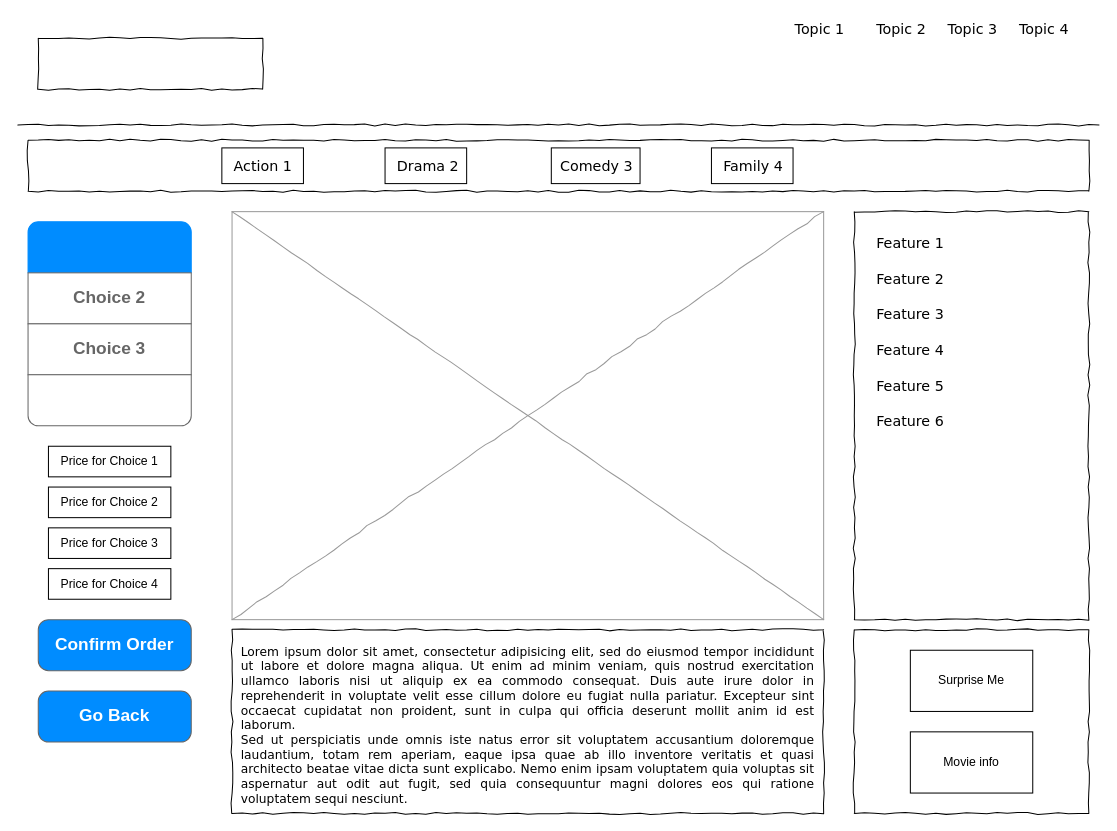
Image size: 1117x831. Some labels were removed from this diagram. Each missing label, with the centre of its shape:
Choice 1: [109,247]
Choice 4: [109,400]
Title Selection: [150,63]
